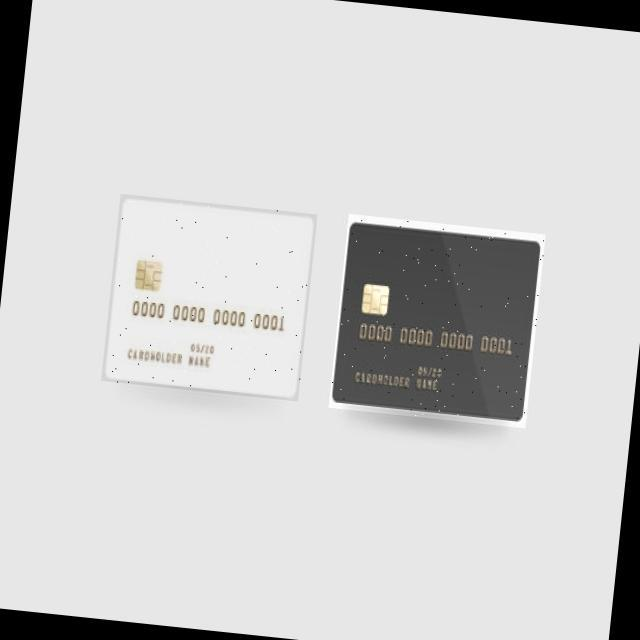payment_card: (330, 213, 545, 427), (101, 193, 317, 400)
